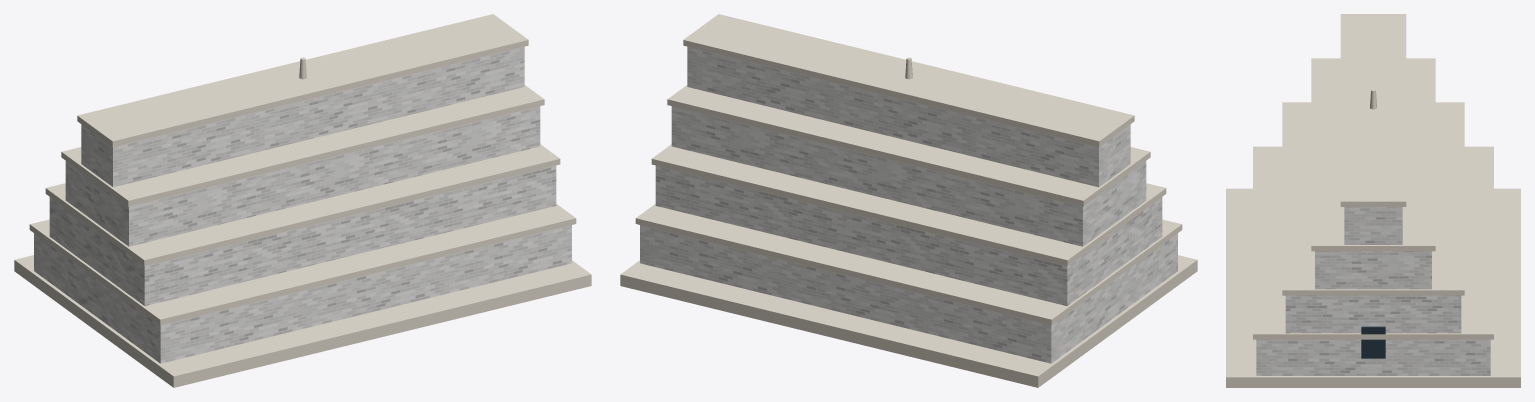
The model's file is roof-step-6.obj.
3 views of the same model, side by side, from view 1: azimuth 30°, elevation 25°; view 2: azimuth 150°, elevation 25°; view 3: azimuth 270°, elevation 25° (orthographic). The views are drawn at different scales.
Parts seen in each view (by area): view 1: part2, part4, part6, part8, part9.nocast, part1.nocast, part3.nocast, part5.nocast, part7.nocast; view 2: part2, part4, part6, part8, part9.nocast, part1.nocast, part3.nocast, part5.nocast, part7.nocast; view 3: part1.nocast, part3.nocast, part9.nocast, part5.nocast, part7.nocast, part2, part4, part6, part8, part10.nocast.
Part boxes in pixels (box(x1,y1,x2,y2)): part2: box(34, 225, 571, 363); part4: box(49, 165, 556, 305); part6: box(65, 106, 540, 246); part8: box(81, 46, 524, 187); part9.nocast: box(77, 14, 528, 146); part1.nocast: box(14, 255, 591, 387); part3.nocast: box(29, 204, 576, 325); part5.nocast: box(45, 144, 560, 265); part7.nocast: box(61, 85, 544, 206); part2: box(640, 225, 1177, 363); part4: box(655, 165, 1162, 305); part6: box(671, 106, 1146, 246); part8: box(687, 46, 1130, 187); part9.nocast: box(683, 14, 1134, 146); part1.nocast: box(620, 255, 1197, 387); part3.nocast: box(635, 204, 1182, 325); part5.nocast: box(651, 144, 1166, 265); part7.nocast: box(667, 85, 1150, 206); part1.nocast: box(1226, 188, 1520, 387); part3.nocast: box(1253, 146, 1493, 339); part9.nocast: box(1340, 14, 1406, 206); part5.nocast: box(1282, 102, 1464, 295); part7.nocast: box(1311, 58, 1435, 251); part2: box(1256, 339, 1490, 375); part4: box(1285, 295, 1461, 333); part6: box(1315, 251, 1431, 289); part8: box(1344, 207, 1402, 244); part10.nocast: box(1361, 326, 1385, 358).
Size of the model in its own units: 9.14 by 4.6 by 6.04.
4 materials, 2 textured.
